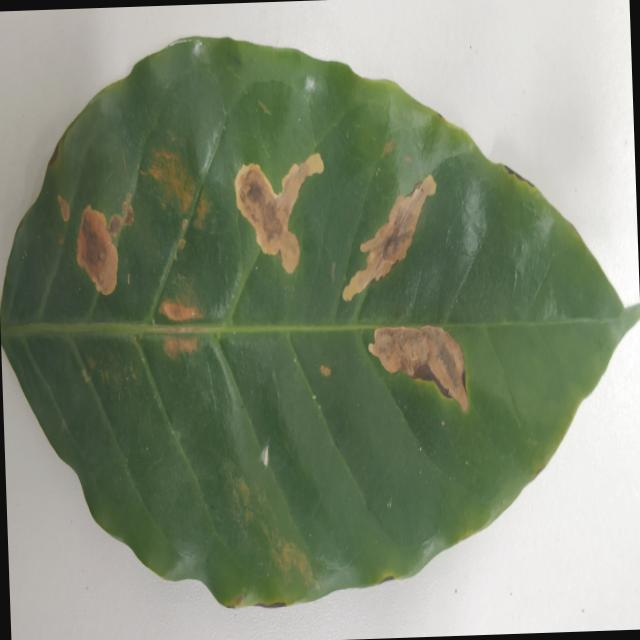KaratDaunKopi: (149, 148, 194, 214), (193, 189, 211, 229), (320, 365, 330, 376)
PengorokDaunKopi: (342, 174, 435, 300), (234, 153, 323, 273), (368, 325, 468, 411), (77, 205, 117, 294), (160, 299, 203, 321), (121, 194, 133, 226), (57, 195, 69, 221), (122, 201, 133, 226), (109, 213, 121, 235), (179, 239, 185, 249)
